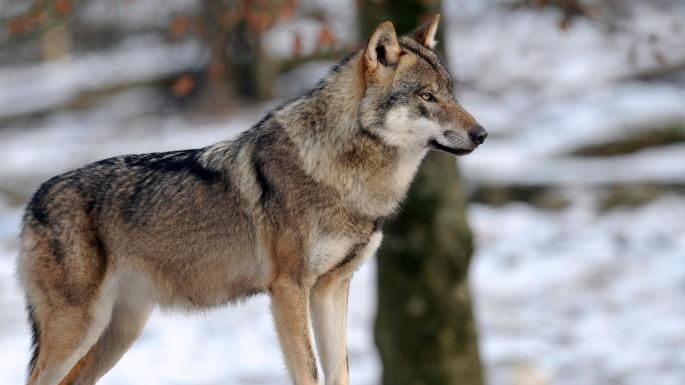wolf: (18, 14, 488, 385)
